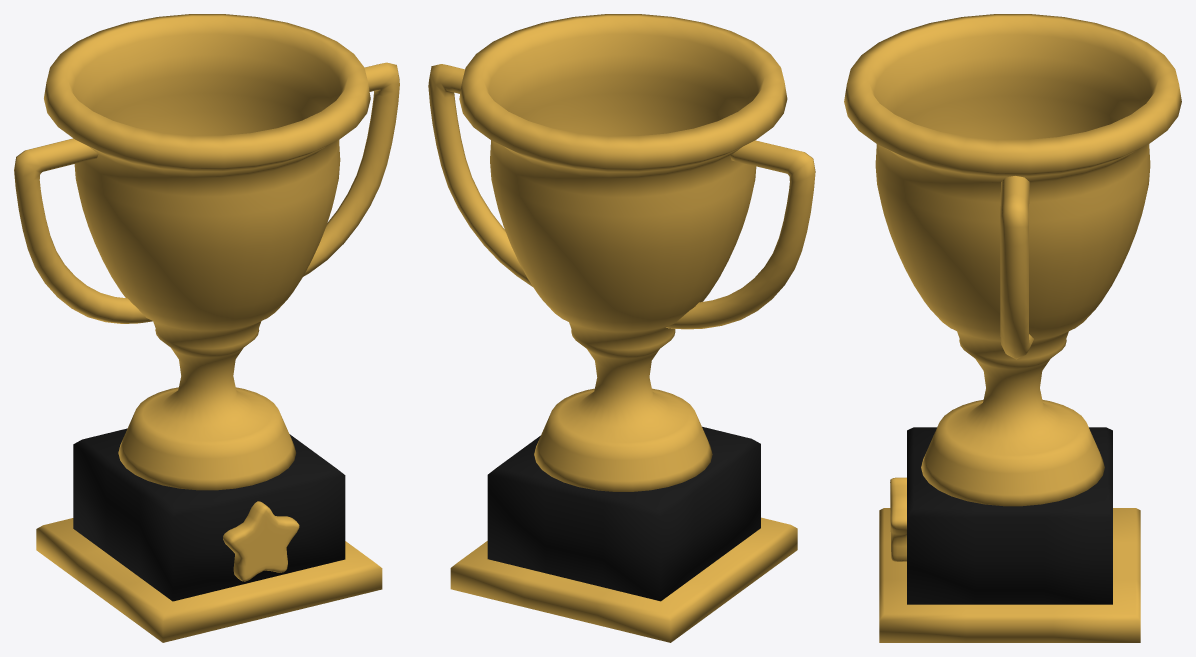
Rendered from championship_trophy.glb.
The picture shows the model from 3 angles, left to right: view 1: azimuth 30°, elevation 25°; view 2: azimuth 150°, elevation 25°; view 3: azimuth 270°, elevation 25°; orthographic projection. The views are drawn at different scales.
Visible parts, largest first — view 1: Trophy; view 2: Trophy; view 3: Trophy.
Part boxes in pixels (x1=…): Trophy: x1=14, y1=14, x2=399, y2=642; Trophy: x1=428, y1=14, x2=815, y2=642; Trophy: x1=844, y1=14, x2=1181, y2=642.
Bounding box in the file's own units: 0.8514 × 1.04 × 0.6265.
